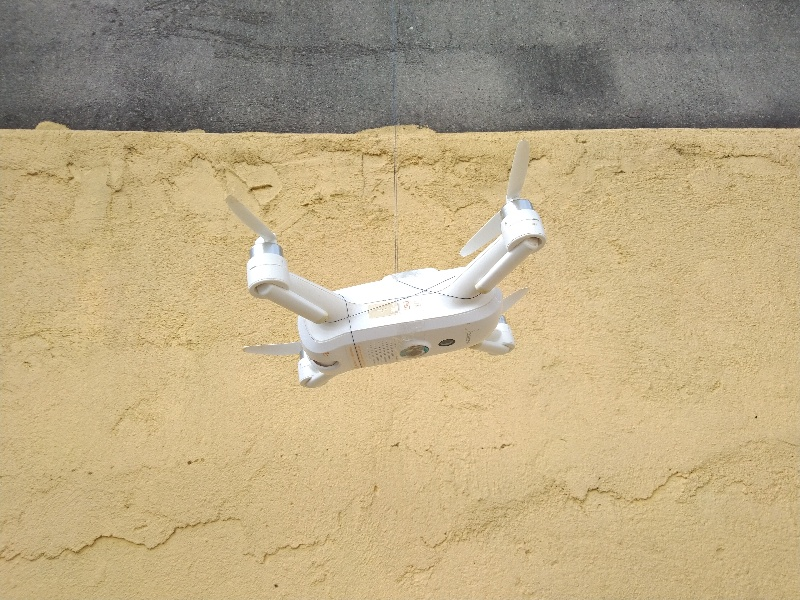drone: (207, 142, 569, 378)
